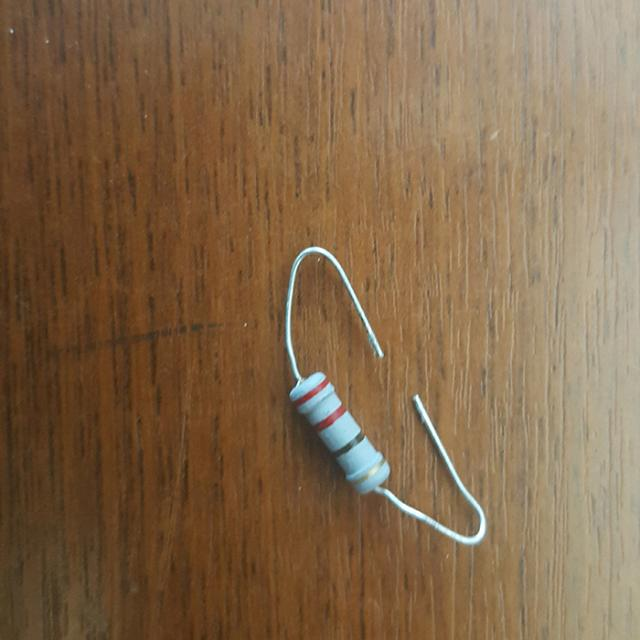brown: (334, 432, 363, 457)
gold: (351, 458, 384, 486)
red: (293, 379, 328, 405), (314, 404, 345, 431)
resistor: (261, 354, 401, 513)
